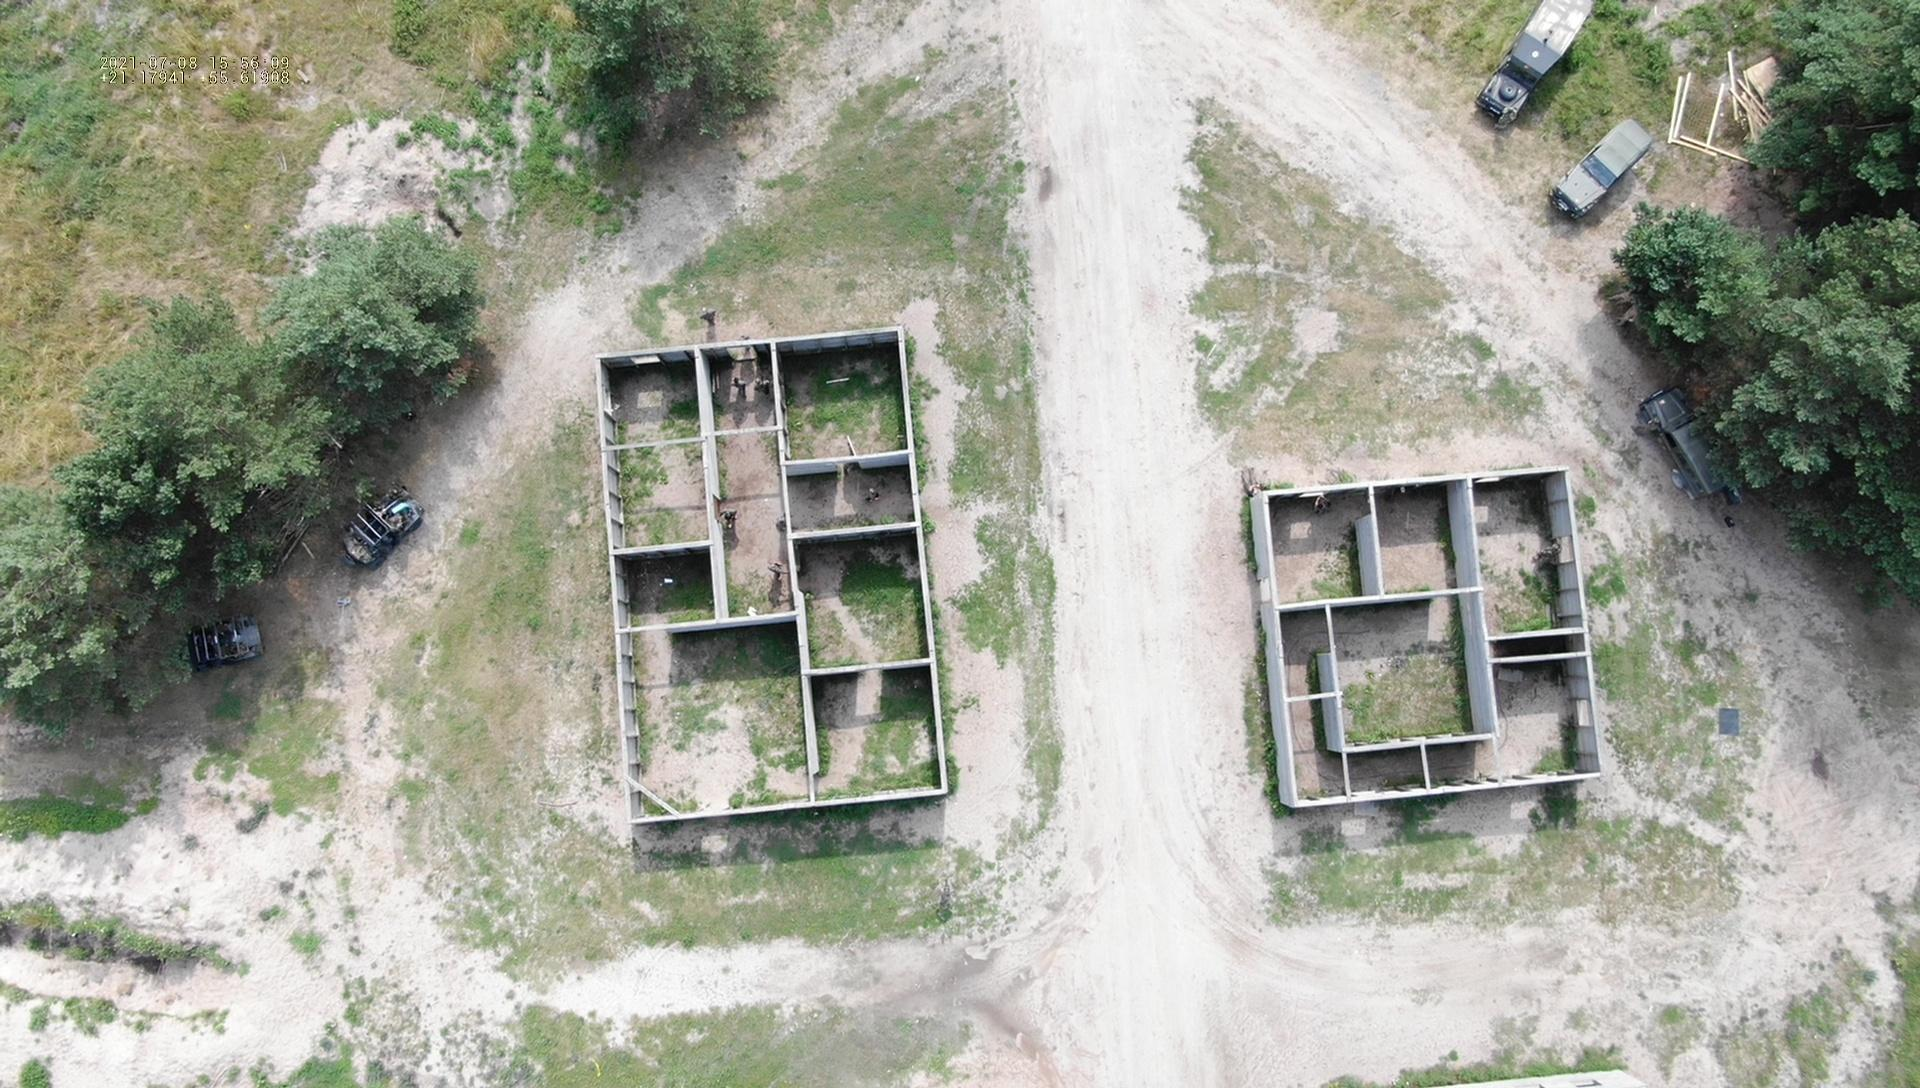Soldier: (1100, 720, 1251, 899), (959, 133, 1072, 298), (1404, 160, 1499, 245), (359, 429, 464, 499), (574, 448, 659, 534), (595, 7, 702, 73), (977, 944, 1044, 1042), (848, 524, 919, 615), (1040, 210, 1106, 299), (512, 378, 591, 440), (1011, 542, 1077, 600)
